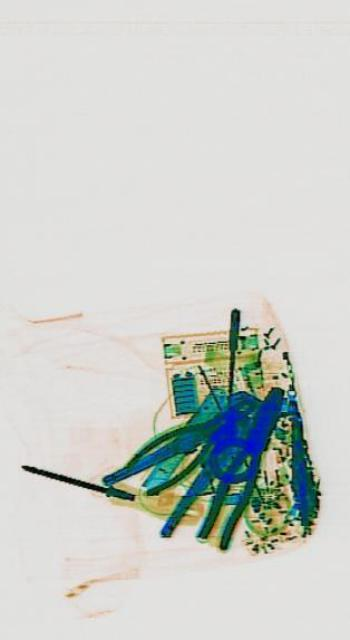Pliers: (99, 354, 276, 568), (193, 368, 288, 560), (120, 379, 250, 511)
